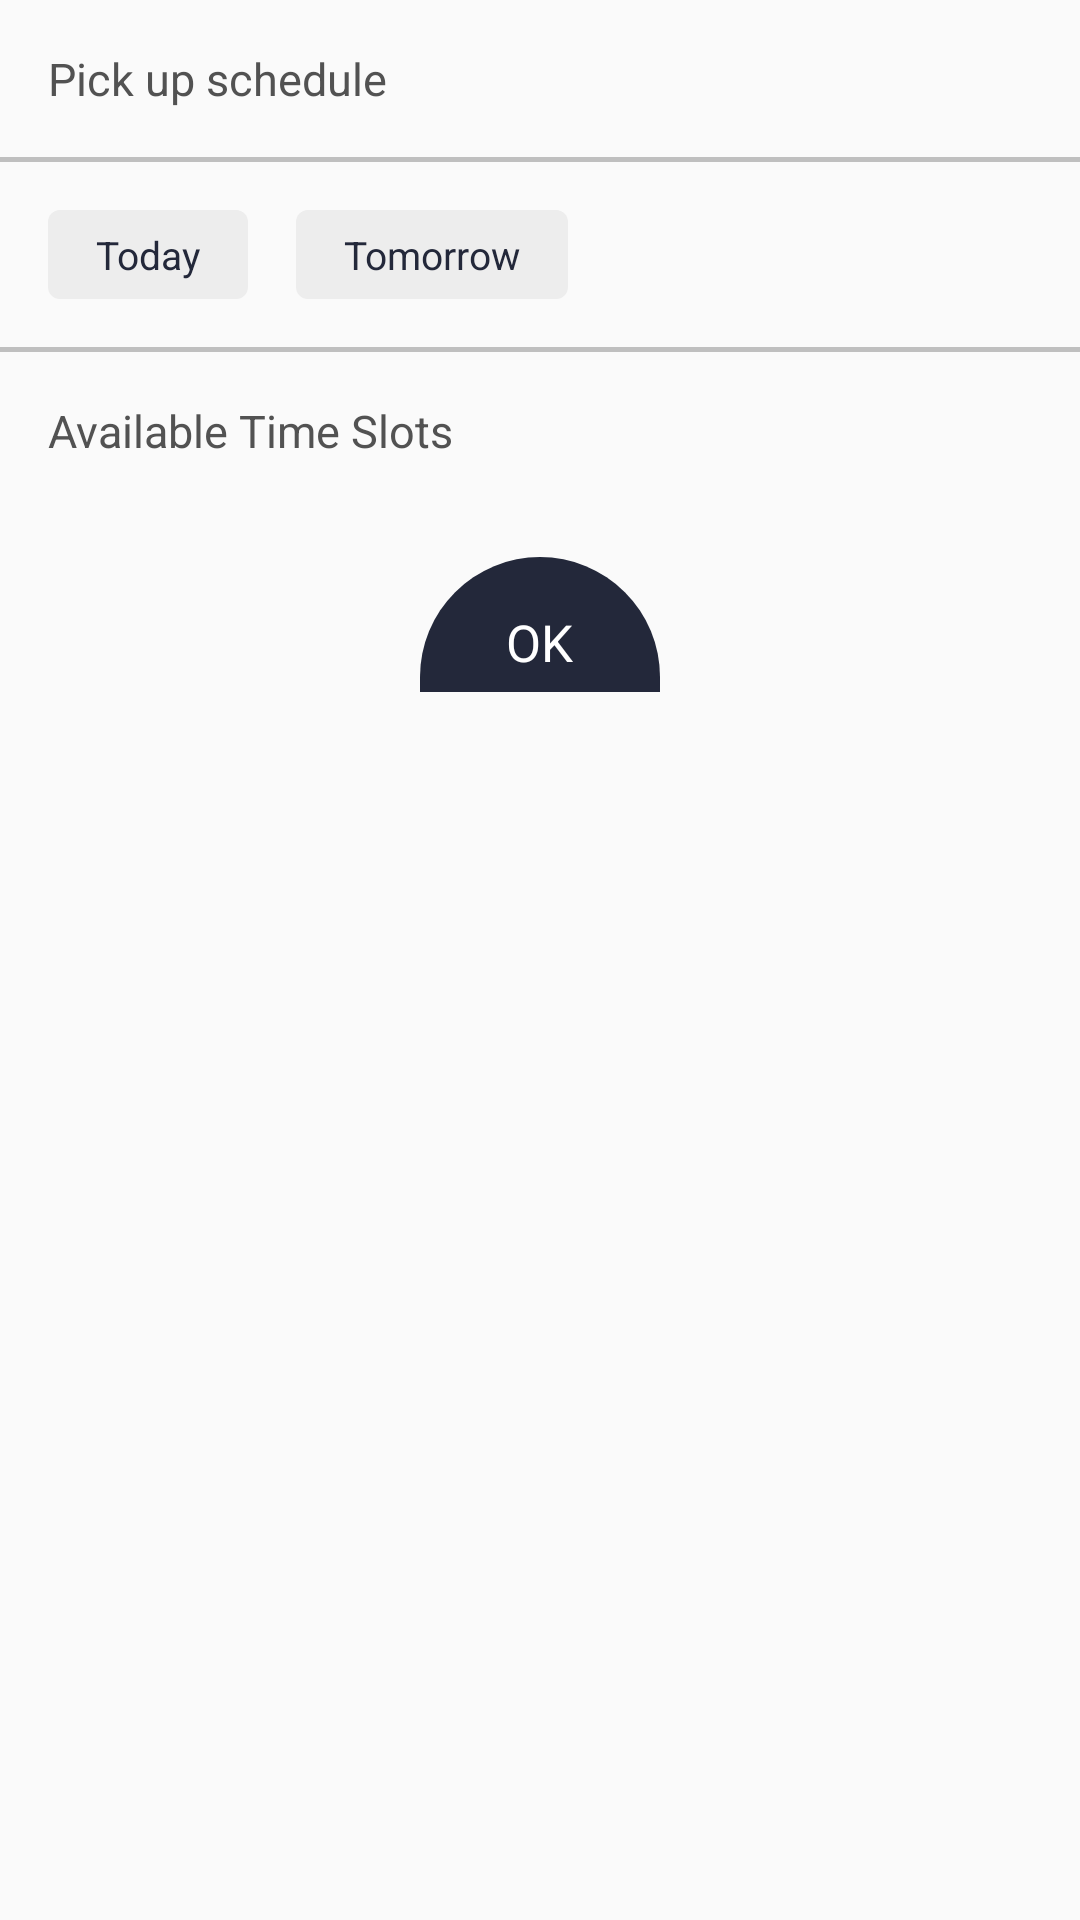

Named icons in this screenshot (1080x1920) and their centers, [x,y]:
halfcircle: [540,624]
